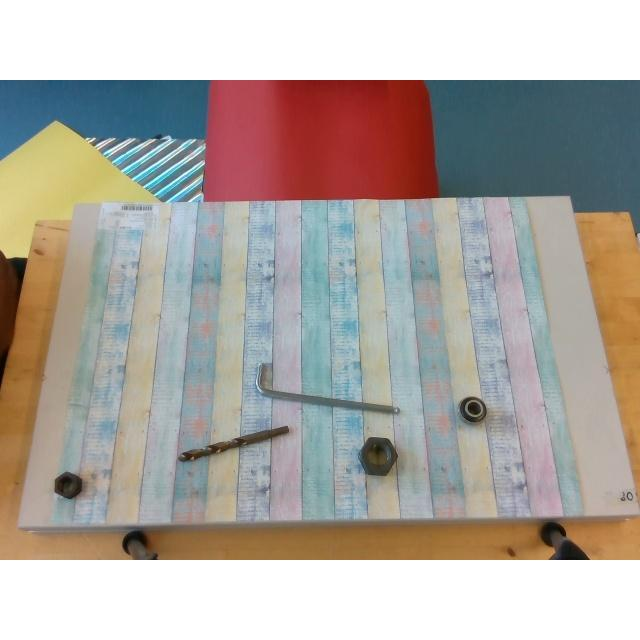AllenKey: (256, 363, 399, 413)
Bearing2: (458, 396, 486, 422)
Drill: (177, 426, 289, 462)
M20: (54, 472, 82, 498)
M30: (358, 437, 398, 475)
